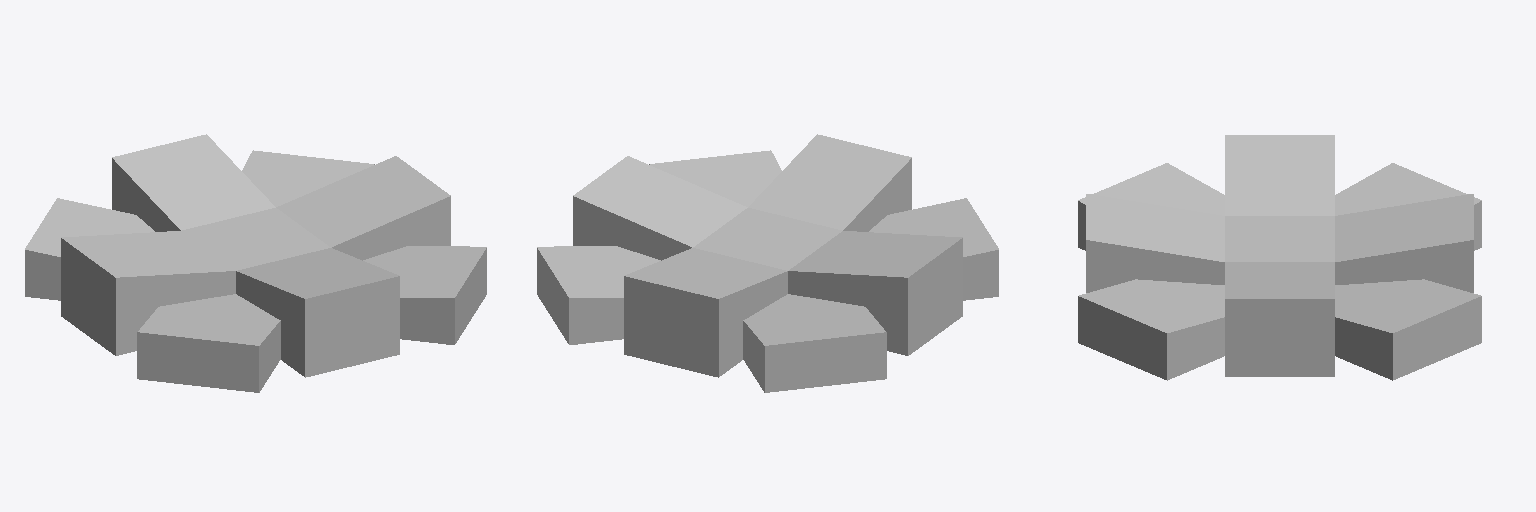
Rendered from campfire_logs.obj.
The picture shows the model from 3 angles: view 1: azimuth 30°, elevation 25°; view 2: azimuth 150°, elevation 25°; view 3: azimuth 270°, elevation 25°; orthographic projection.
Parts seen in each view (by area): view 1: campfire_logs; view 2: campfire_logs; view 3: campfire_logs.
Boxes of the visible parts, box(x1,y1,x2,y2) form: campfire_logs: box(25, 134, 486, 392); campfire_logs: box(537, 134, 998, 392); campfire_logs: box(1078, 135, 1481, 380).
Size of the model in its own units: 0.2919 by 0.0626 by 0.2919.